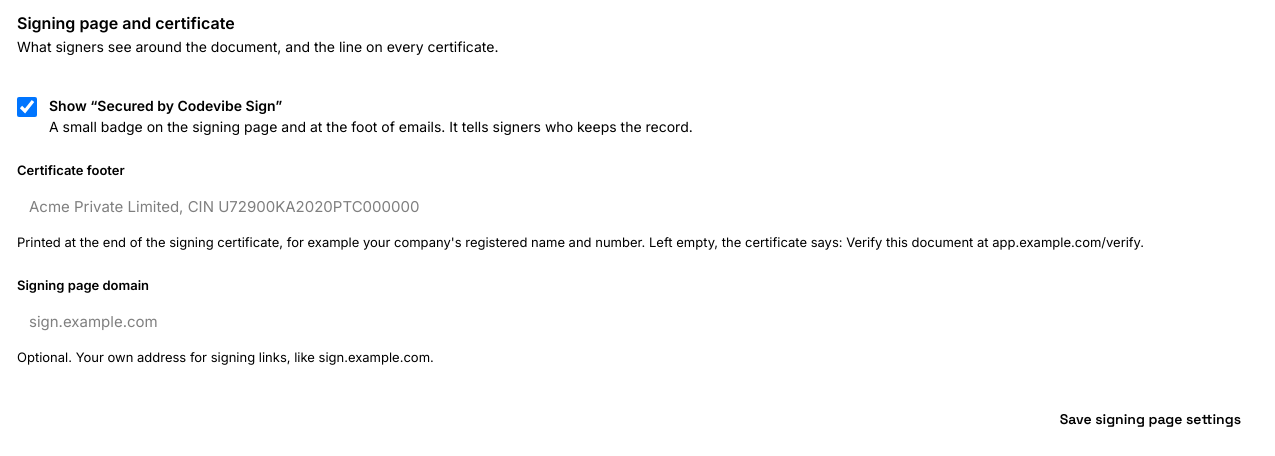
Test: SigningBrandForm › puts a refused domain next to the field
Type "taken.example.com" into the field labelled "Signing page domain". click: (637, 322)
box: [17, 302, 1257, 342]
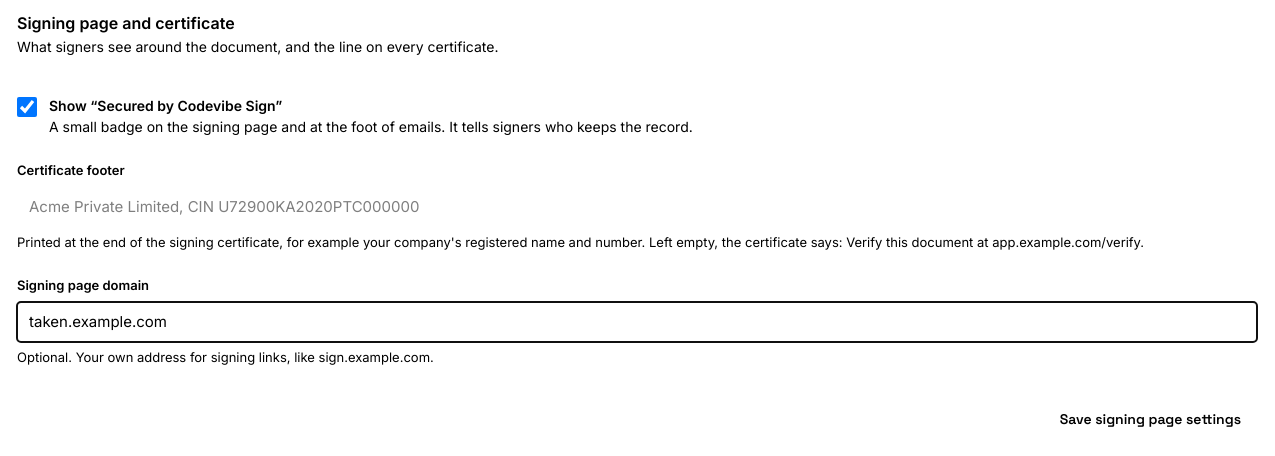
Click the button "Save signing page settings". click: (1150, 419)
box: [1044, 399, 1257, 439]
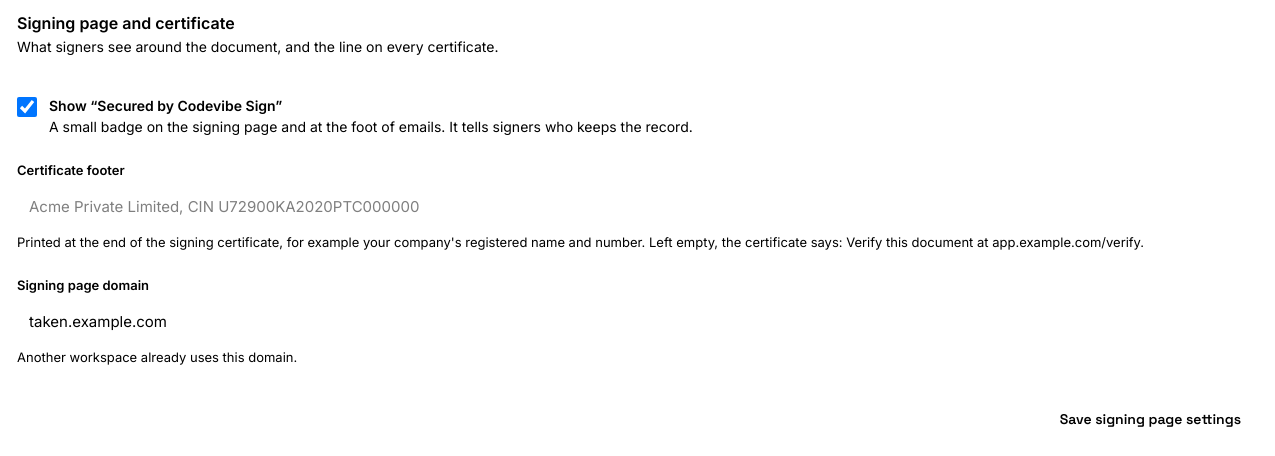
Expected: the message shows "already uses", [17, 348, 297, 364]
